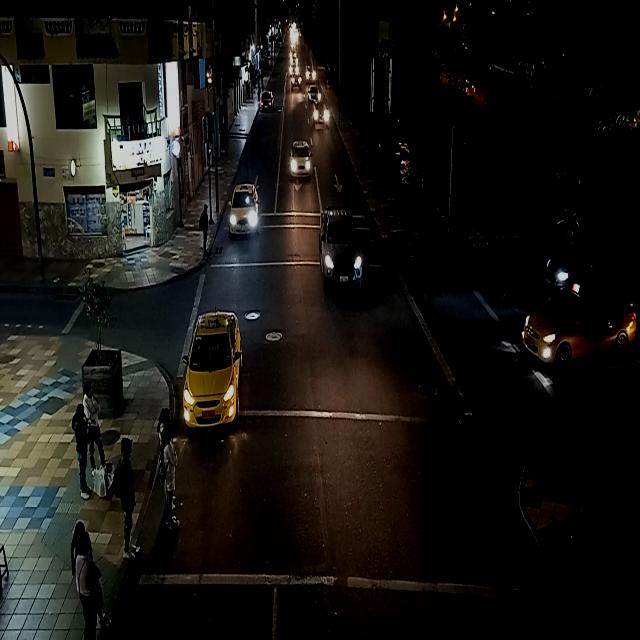CMT: (323, 212, 363, 292)
SED: (525, 287, 635, 364), (182, 311, 242, 425)
